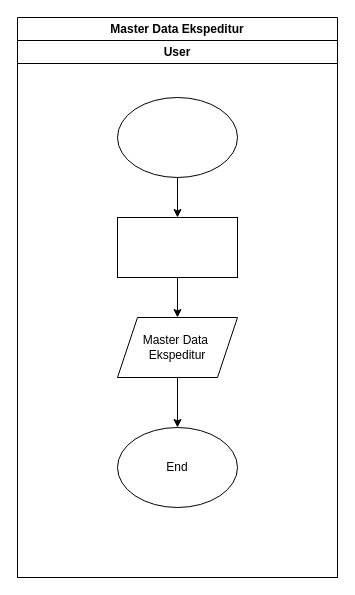
Some shapes in this 355 by 595 pixel diagram are drawn without their labels. The shapes that lost their labels are listed below. From the top down, each one's centre as x and y in pixels, then its label:
At (x=177, y=137): "Start".
At (x=177, y=247): "Create Master Data Ekspeditur".
